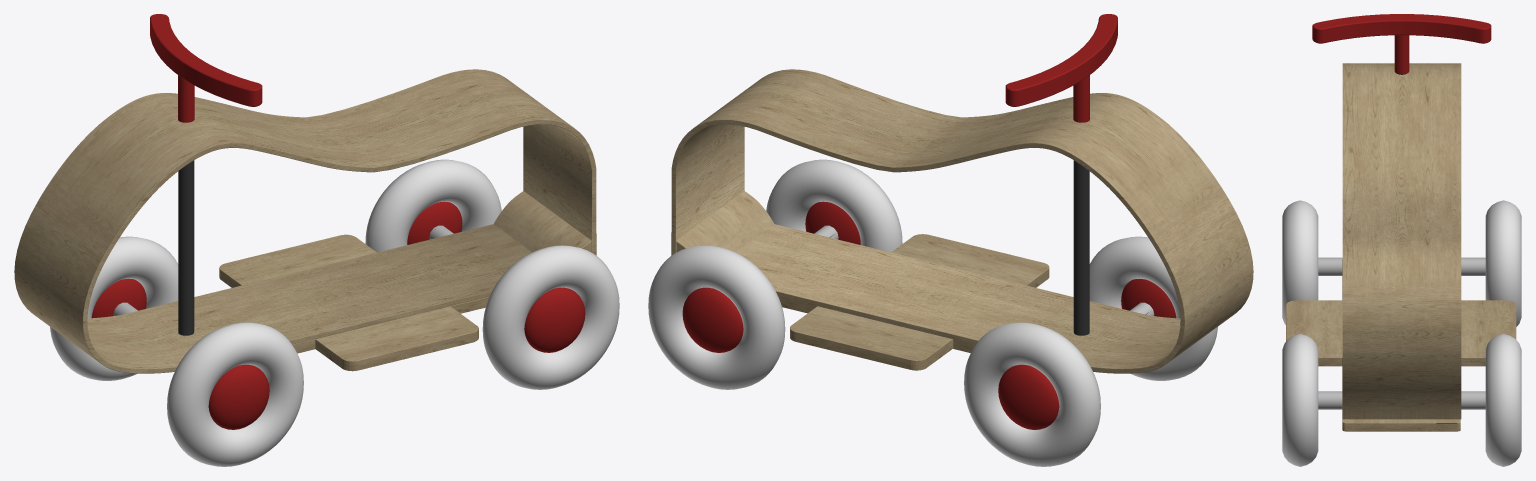
File: wolfgang_sibismax.gltf
3 views of the same model, side by side, from view 1: azimuth 30°, elevation 25°; view 2: azimuth 150°, elevation 25°; view 3: azimuth 270°, elevation 25° (orthographic). The views are drawn at different scales.
Visible parts, largest first — view 1: wolfgang_sirch_sibis_max; view 2: wolfgang_sirch_sibis_max; view 3: wolfgang_sirch_sibis_max.
Boxes of the visible parts, x1,y1,x2,y2 form: wolfgang_sirch_sibis_max: [14, 14, 619, 466]; wolfgang_sirch_sibis_max: [648, 14, 1253, 466]; wolfgang_sirch_sibis_max: [1282, 14, 1521, 466].
Size of the model in its own units: 0.5664 by 0.3757 by 0.2594.
1 material, 1 textured.
